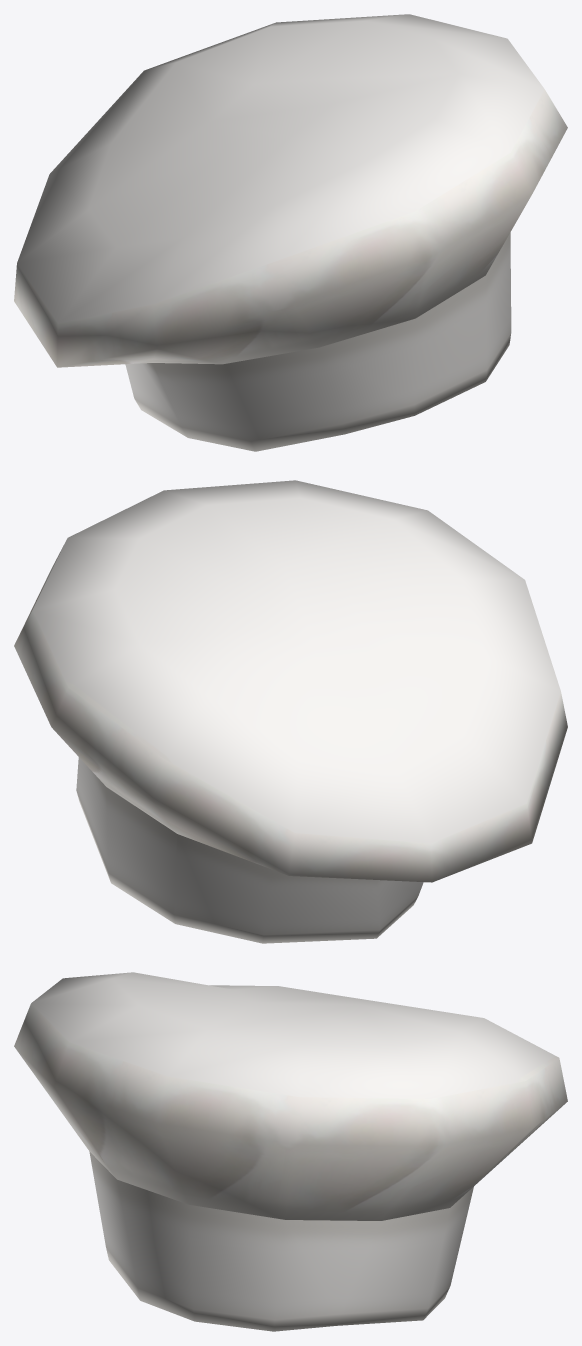
File: cap.fbx
3 renders of one model, top to bottom at view 1: azimuth 30°, elevation 25°; view 2: azimuth 150°, elevation 25°; view 3: azimuth 270°, elevation 25°, orthographic. The views are drawn at different scales.
Parts seen in each view (by area): view 1: CommonPeople_FreeSample_anniversy_hat_1_onWear; view 2: CommonPeople_FreeSample_anniversy_hat_1_onWear; view 3: CommonPeople_FreeSample_anniversy_hat_1_onWear.
Boxes of the visible parts, left/top/right/bottom form: CommonPeople_FreeSample_anniversy_hat_1_onWear: left=14, top=14, right=567, bottom=451; CommonPeople_FreeSample_anniversy_hat_1_onWear: left=14, top=480, right=567, bottom=943; CommonPeople_FreeSample_anniversy_hat_1_onWear: left=14, top=972, right=567, bottom=1331.
Bounding box in the file's own units: 44.97 × 29.39 × 45.76.
Materials: 1 (1 with a texture image).
